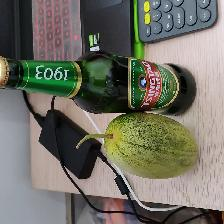gua: (97, 122, 196, 175)
